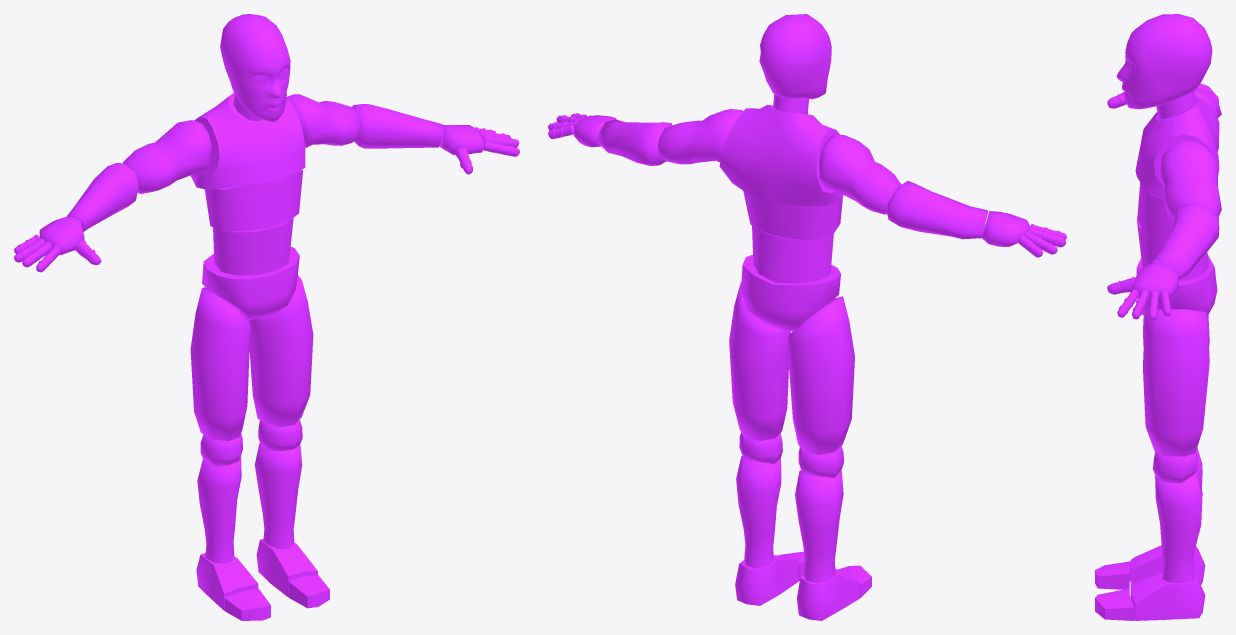
The model's file is asset.gltf.
The picture shows the model from 3 angles, left to right: view 1: azimuth 30°, elevation 25°; view 2: azimuth 150°, elevation 25°; view 3: azimuth 270°, elevation 25°; orthographic projection. The views are drawn at different scales.
Parts seen in each view (by area): view 1: MaleDummyDancer; view 2: MaleDummyDancer; view 3: MaleDummyDancer.
Part boxes in pixels (left/top/right/bottom): MaleDummyDancer: left=14, top=14, right=519, bottom=620; MaleDummyDancer: left=548, top=14, right=1066, bottom=620; MaleDummyDancer: left=1095, top=14, right=1221, bottom=620.
Bounding box in the file's own units: 171 × 187 × 37.02.
